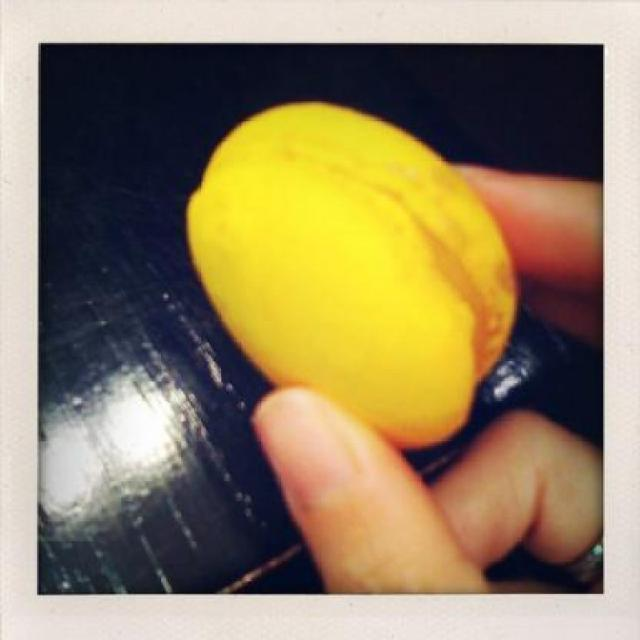Macaron: (178, 91, 522, 451)
